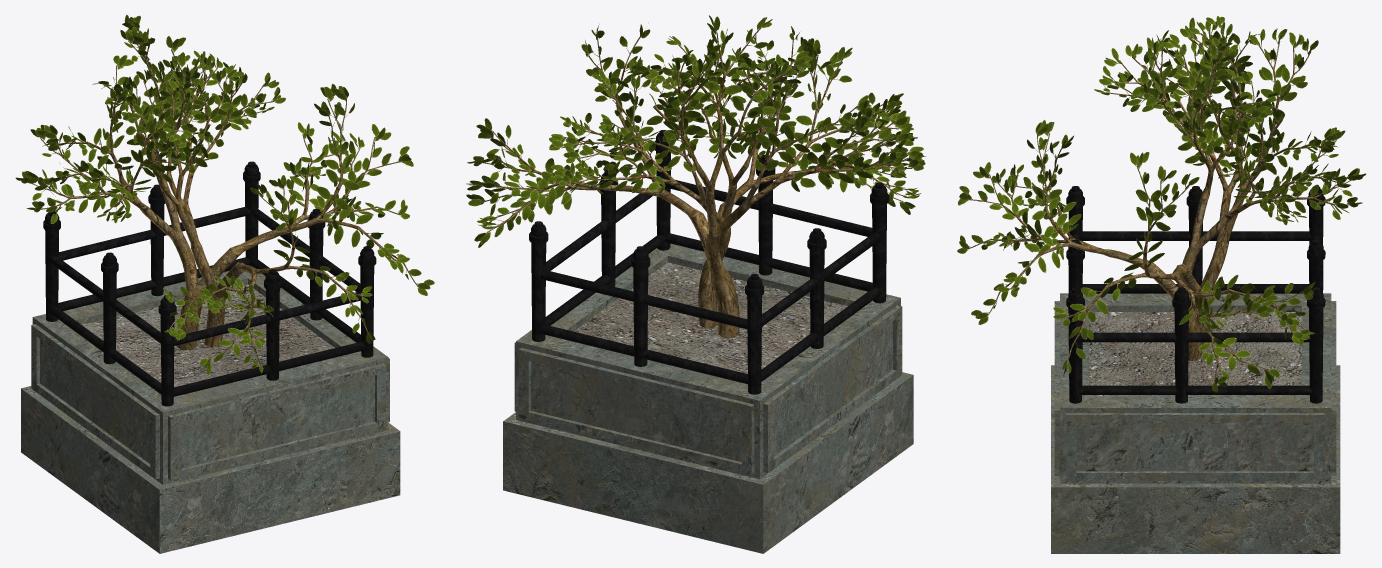
Rendered from street_plant.obj.
3 renders of one model, left to right at view 1: azimuth 30°, elevation 25°; view 2: azimuth 150°, elevation 25°; view 3: azimuth 270°, elevation 25°, orthographic. The views are drawn at different scales.
Parts seen in each view (by area): view 1: Plant; view 2: Plant; view 3: Plant.
Part boxes in pixels (box(x1,y1,x2,y2)): Plant: box(15, 15, 434, 553); Plant: box(466, 15, 926, 553); Plant: box(957, 16, 1365, 553).
Bounding box in the file's own units: 0.5649 × 0.5844 × 0.4797.
5 materials, 5 textured.
